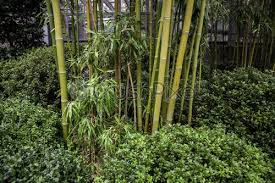bamboo: (52, 1, 201, 140), (3, 58, 70, 179), (79, 128, 203, 183), (215, 73, 272, 180), (213, 1, 272, 69)
